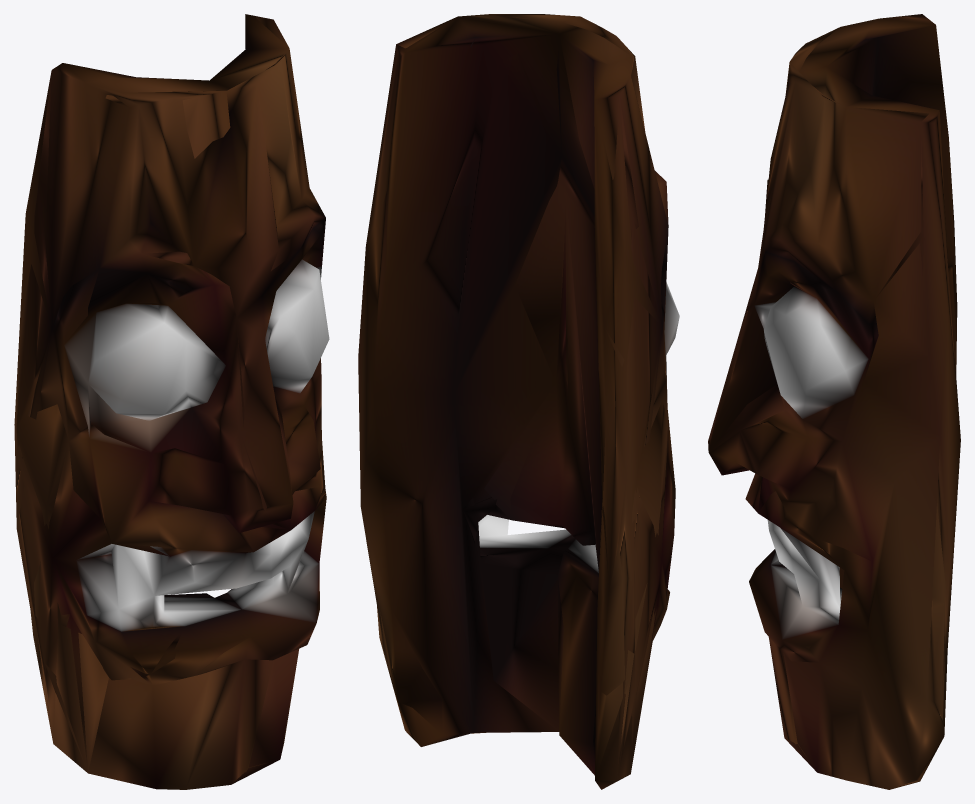
Rendered from gen3d-tiki-mask-lod1.glb.
3 renders of one model, left to right at view 1: azimuth 30°, elevation 25°; view 2: azimuth 150°, elevation 25°; view 3: azimuth 270°, elevation 25°, orthographic. The views are drawn at different scales.
Parts seen in each view (by area): view 1: part_0; view 2: part_0; view 3: part_0.
Part boxes in pixels (left/top/right/bottom): part_0: left=14, top=14, right=329, bottom=789; part_0: left=358, top=14, right=679, bottom=789; part_0: left=708, top=14, right=960, bottom=789.
Bounding box in the file's own units: 0.4105 × 0.9968 × 0.3351.
